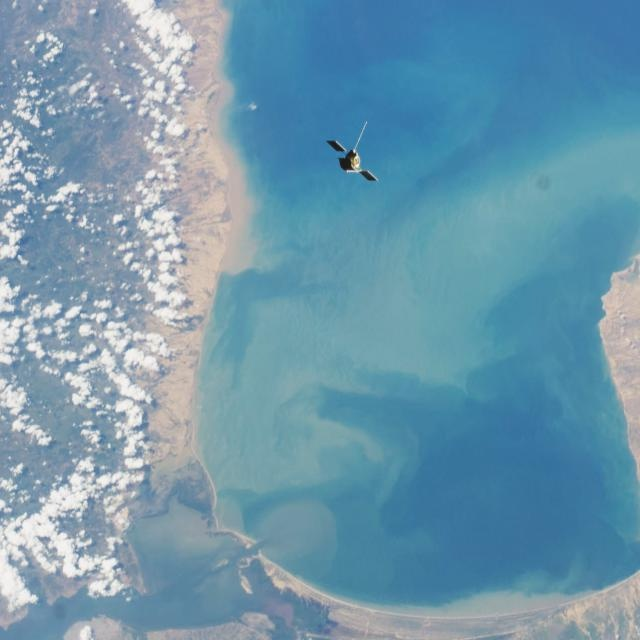satellite: (311, 122, 404, 195)
